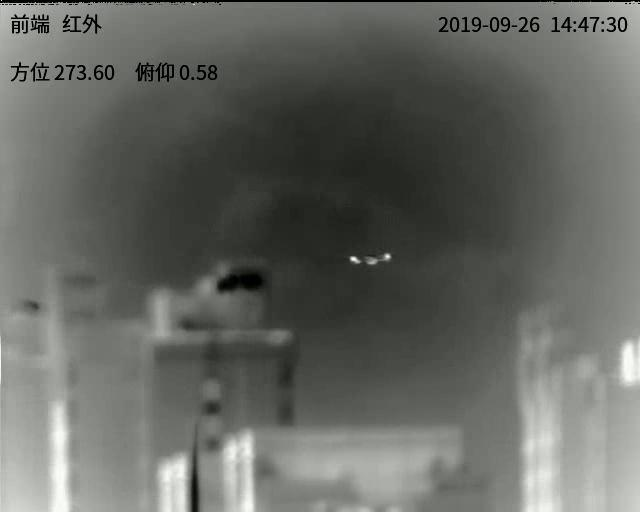DRONE: (347, 252, 393, 268)
